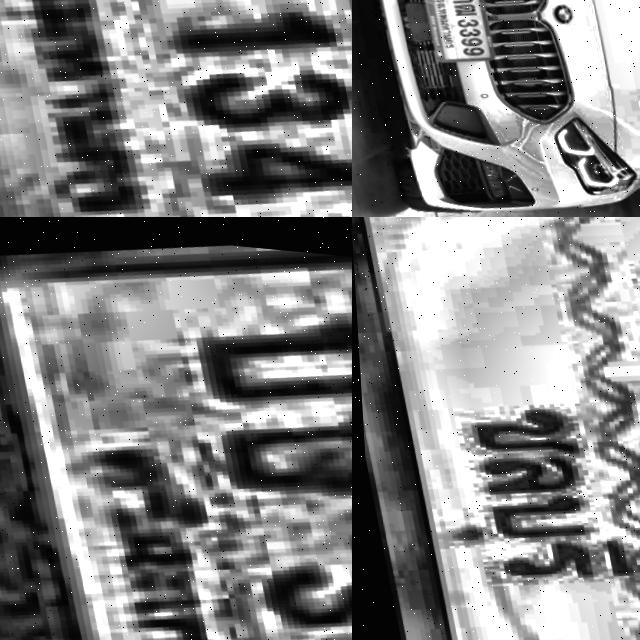license-plate: (0, 219, 352, 640), (352, 217, 640, 640), (0, 0, 352, 217), (415, 0, 493, 62)
